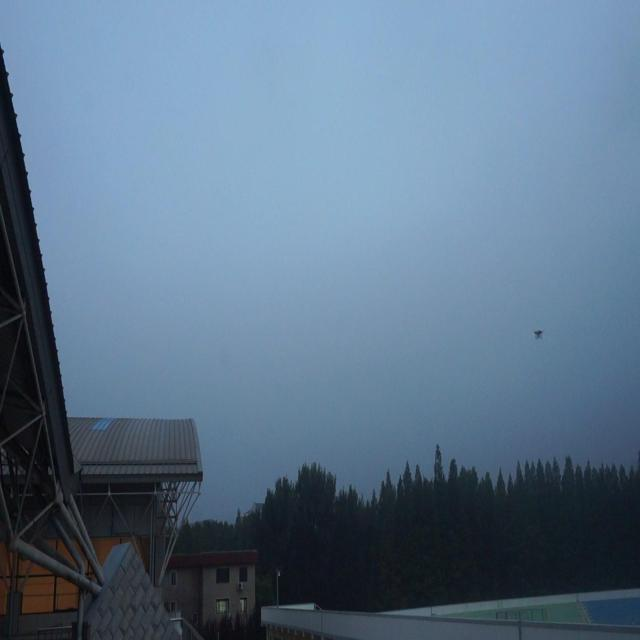drone: (532, 324, 545, 342)
